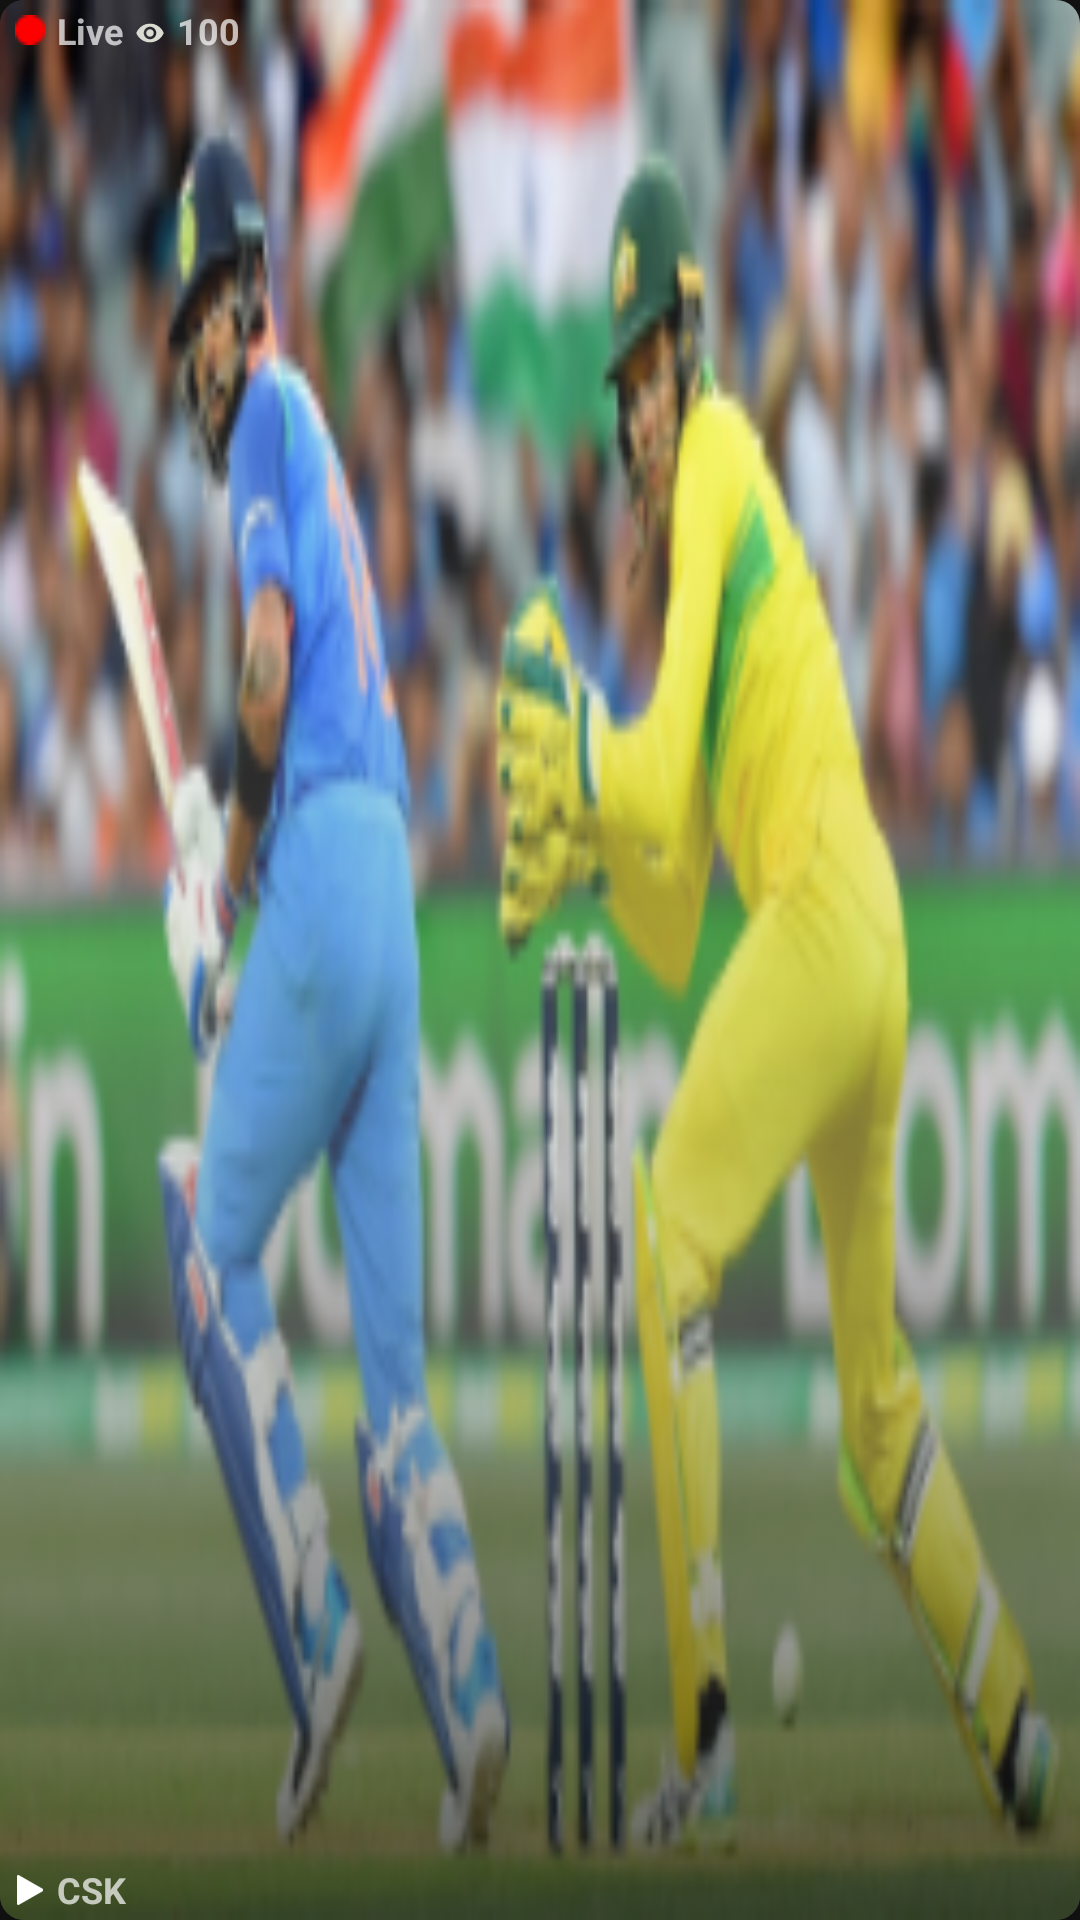

Point at icon controls on the screen. Image size 1080 × 1920, points as (x=x, y=y).
play: (x=30, y=1890)
